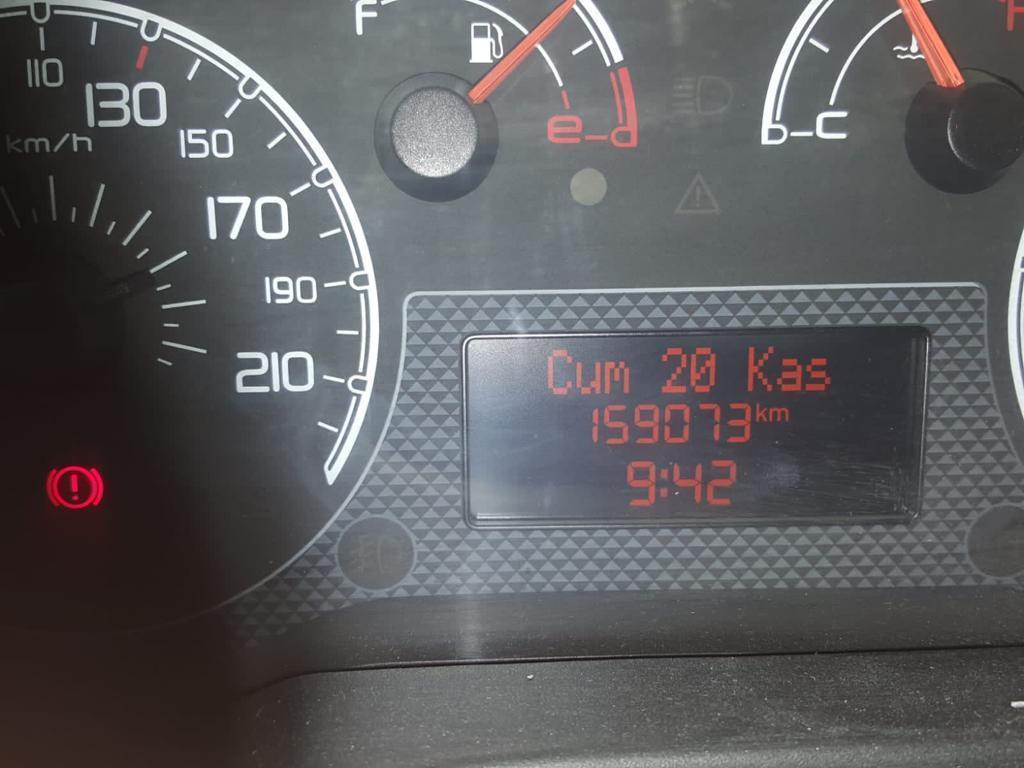0: (689, 346, 716, 392), (663, 403, 690, 443)
1: (590, 406, 599, 444)
2: (706, 458, 737, 505), (660, 347, 687, 393)
3: (727, 402, 751, 444)
4: (673, 462, 703, 505)
5: (603, 404, 628, 445)
7: (697, 402, 721, 441)
9: (626, 460, 656, 506), (634, 403, 659, 443)
X: (746, 344, 774, 392), (546, 348, 574, 395), (804, 357, 831, 392), (776, 357, 802, 392), (603, 360, 629, 394), (575, 361, 601, 394), (658, 467, 669, 498), (769, 407, 789, 422), (755, 403, 768, 422)
odometer: (461, 324, 931, 532)
